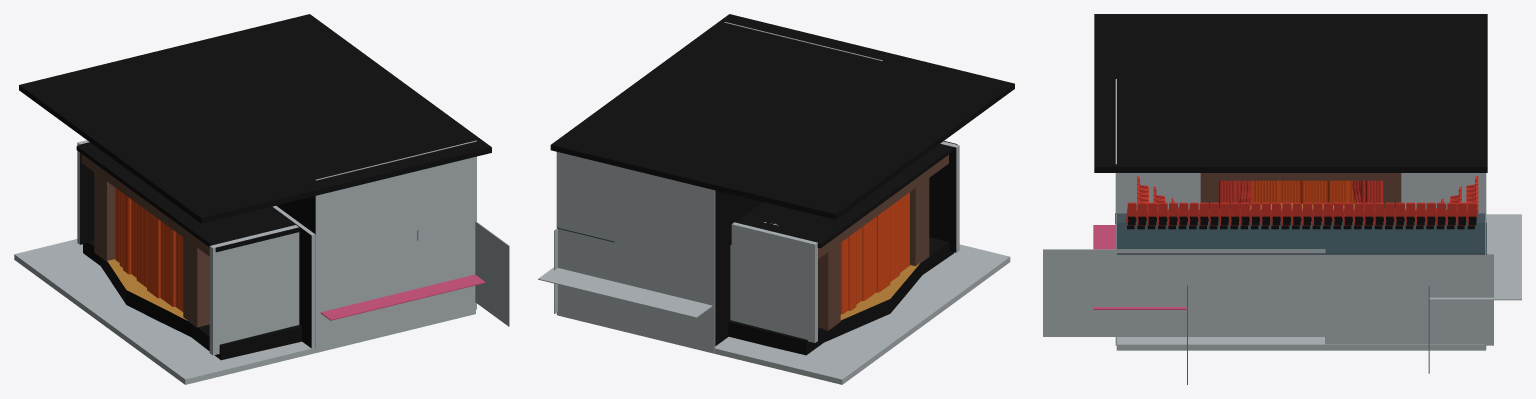
3 views of the same model, side by side, from view 1: azimuth 30°, elevation 25°; view 2: azimuth 150°, elevation 25°; view 3: azimuth 270°, elevation 25° (orthographic). The views are drawn at different scales.
Visible parts, largest first — view 1: node_MeshObject1279389696-PolyPaper8, node_MeshObject707310592-PolyPaper8, node_MeshObject1270641664-PolyPaper8, node_MeshObject2133134336-PolyPaper8, node_MeshObject1842720768-PolyPaper8; view 2: node_MeshObject1279389696-PolyPaper8, node_MeshObject1270641664-PolyPaper8, node_MeshObject707310592-PolyPaper8, node_MeshObject1842720768-PolyPaper8; view 3: node_MeshObject1279389696-PolyPaper8, node_MeshObject2133134336-PolyPaper8, node_MeshObject135231488-PolyPaper21, node_MeshObject707310592-PolyPaper8, node_MeshObject1842720768-PolyPaper8, node_MeshObject1270641664-PolyPaper8, node_MeshObject-155182080-PolyPaper8, node_MeshObject-1871419392-PolyPaper8, node_MeshObject1851468800-PolyPaper21, node_MeshObject-1299340288-PolyPaper23, node_MeshObject-727261184-PolyPaper8, node_MeshObject-1017674752-PolyPaper8.
Part boxes in pixels (x1,y1,x2,y2): node_MeshObject1279389696-PolyPaper8: (19, 14, 491, 348); node_MeshObject707310592-PolyPaper8: (76, 143, 300, 355); node_MeshObject1270641664-PolyPaper8: (14, 239, 475, 384); node_MeshObject2133134336-PolyPaper8: (320, 221, 509, 326); node_MeshObject1842720768-PolyPaper8: (80, 142, 315, 348); node_MeshObject1279389696-PolyPaper8: (538, 14, 1014, 352); node_MeshObject1270641664-PolyPaper8: (557, 237, 1010, 384); node_MeshObject707310592-PolyPaper8: (735, 141, 959, 293); node_MeshObject1842720768-PolyPaper8: (715, 147, 956, 320); node_MeshObject1279389696-PolyPaper8: (1094, 14, 1521, 349); node_MeshObject2133134336-PolyPaper8: (1043, 189, 1493, 345); node_MeshObject135231488-PolyPaper21: (1117, 212, 1486, 254); node_MeshObject707310592-PolyPaper8: (1126, 173, 1401, 229); node_MeshObject1842720768-PolyPaper8: (1117, 173, 1484, 384); node_MeshObject1270641664-PolyPaper8: (1116, 337, 1485, 350); node_MeshObject-155182080-PolyPaper8: (1344, 202, 1477, 221); node_MeshObject-1871419392-PolyPaper8: (1230, 202, 1475, 229); node_MeshObject1851468800-PolyPaper21: (1189, 202, 1392, 229); node_MeshObject-1299340288-PolyPaper23: (1261, 202, 1333, 229); node_MeshObject-727261184-PolyPaper8: (1314, 202, 1353, 221); node_MeshObject-1017674752-PolyPaper8: (1171, 176, 1478, 373).
Bounding box in the file's own units: 6.8 × 4.48 × 8.81.
